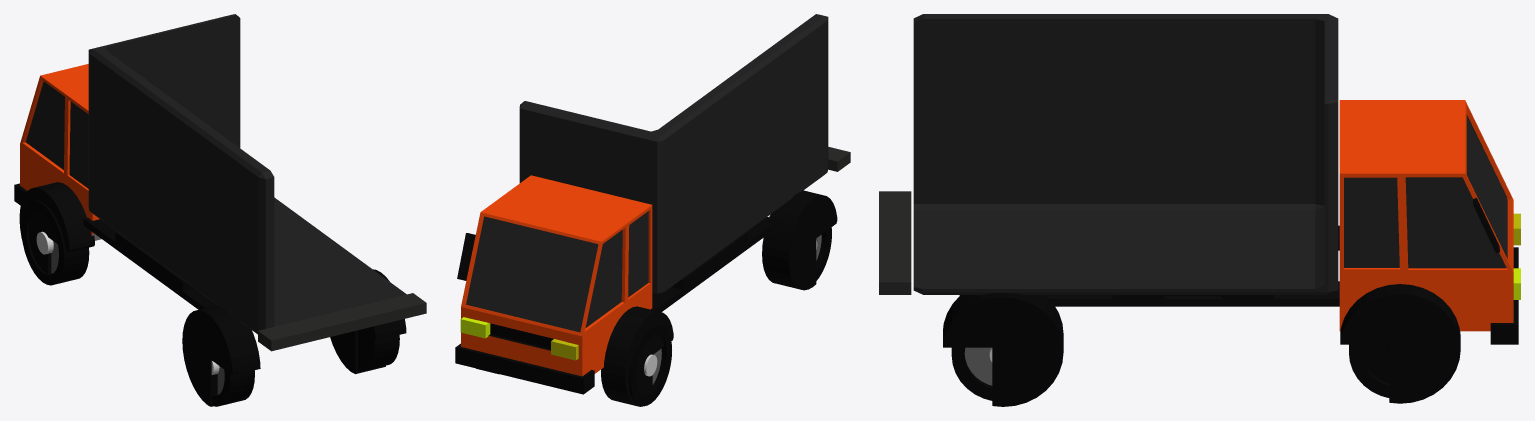
Rendered from truckpackingView1.obj.
3 renders of one model, left to right at view 1: azimuth 30°, elevation 25°; view 2: azimuth 150°, elevation 25°; view 3: azimuth 270°, elevation 25°, orthographic. The views are drawn at different scales.
Parts seen in each view (by area): view 1: Cube.017, Cube, Cylinder.007, Cube.016, Cylinder.003, Cylinder.014, Cylinder.005, Cube.012, Cylinder.013, Cylinder.016, Cube.013; view 2: Cube.017, Cube, Cylinder.007, Cylinder.003, Cube.001, Cylinder.014, Cube.012, Cube.013, Cylinder.013, Cube.015, Cube.002, Cube.014 (+1 smaller); view 3: Cube.017, Cube, Cylinder.005, Cylinder.001, Cube.016, Cube.010, Cylinder.016, Cylinder.009, Cube.001.
Boxes of the visible parts, bbox=[...] form: Cube.017: bbox=[88, 14, 406, 334]; Cube: bbox=[20, 64, 101, 240]; Cylinder.007: bbox=[182, 305, 260, 406]; Cube.016: bbox=[258, 293, 426, 351]; Cylinder.003: bbox=[19, 182, 94, 273]; Cylinder.014: bbox=[21, 200, 89, 285]; Cylinder.005: bbox=[330, 269, 406, 374]; Cube.012: bbox=[83, 217, 217, 309]; Cylinder.013: bbox=[211, 360, 254, 406]; Cylinder.016: bbox=[358, 329, 399, 371]; Cube.013: bbox=[115, 231, 194, 291]; Cube.017: bbox=[519, 14, 828, 294]; Cube: bbox=[461, 175, 652, 376]; Cylinder.007: bbox=[762, 190, 837, 290]; Cylinder.003: bbox=[601, 306, 673, 406]; Cube.001: bbox=[455, 343, 594, 394]; Cylinder.014: bbox=[628, 324, 671, 406]; Cube.012: bbox=[651, 217, 773, 312]; Cube.013: bbox=[672, 232, 748, 289]; Cylinder.013: bbox=[816, 227, 831, 280]; Cube.015: bbox=[460, 317, 490, 338]; Cube.002: bbox=[457, 233, 475, 280]; Cube.014: bbox=[551, 339, 578, 360]; Cube.017: bbox=[913, 14, 1338, 294]; Cube: bbox=[1339, 100, 1513, 331]; Cylinder.005: bbox=[943, 293, 1063, 406]; Cylinder.001: bbox=[1340, 284, 1460, 403]; Cube.016: bbox=[879, 191, 911, 294]; Cube.010: bbox=[1046, 281, 1339, 306]; Cylinder.016: bbox=[951, 347, 992, 400]; Cylinder.009: bbox=[1349, 344, 1389, 397]; Cube.001: bbox=[1490, 247, 1518, 344].
Bounding box in the file's own units: 2.77 × 3.85 × 7.37.
